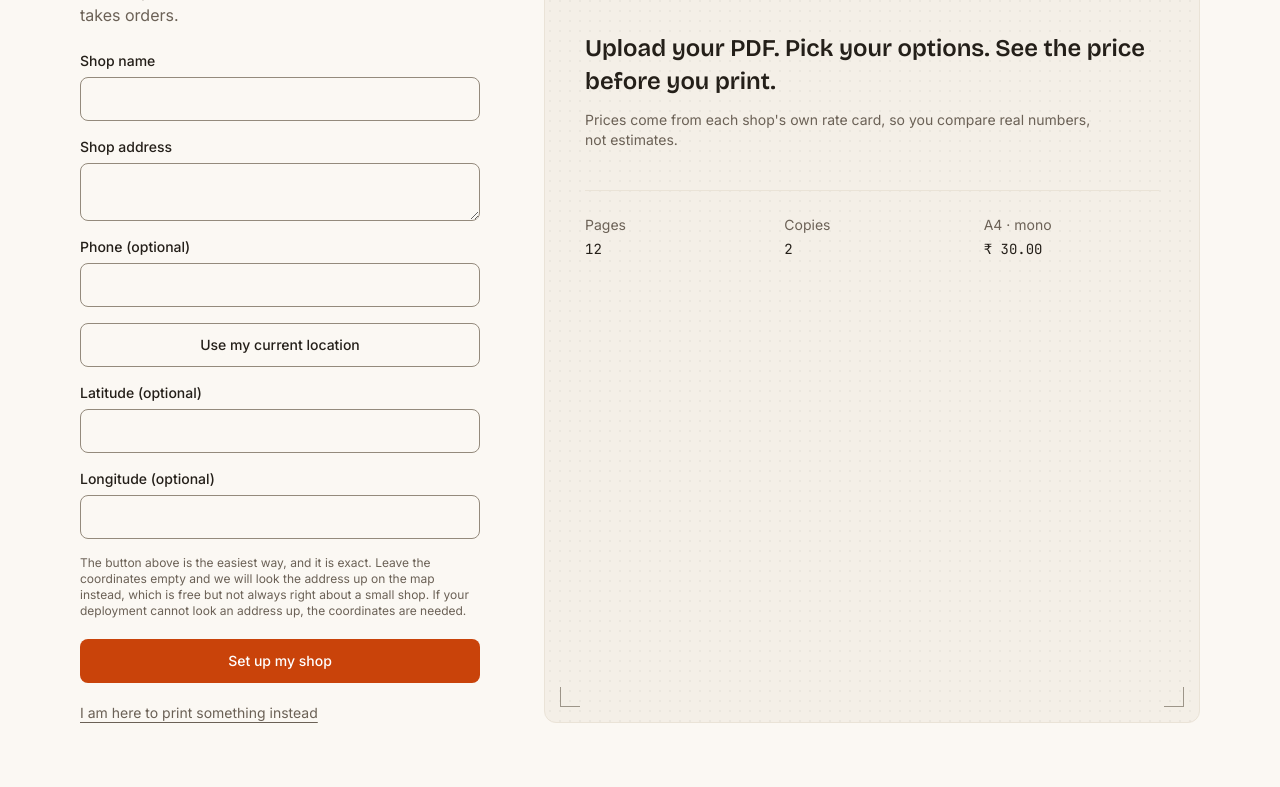
the onboarding page › lets a shop owner say they are here to print after all
The width and height of the screenshot is (1280, 787).
(page scrolled)
Click the button "I am here to print something instead".
click(199, 713)  # box x1=80 y1=703 x2=318 y2=723
(page scrolled)
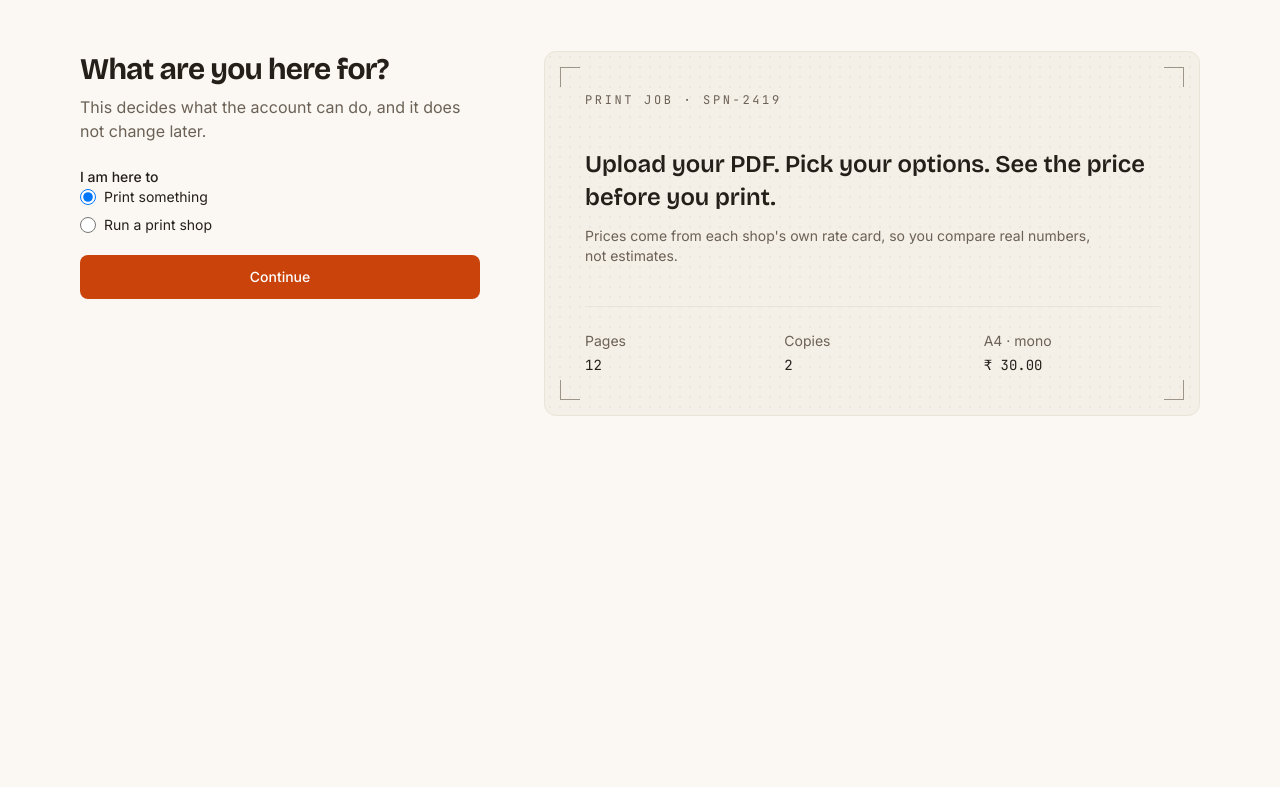
Expected: the radio button labelled "Print something" is shown, x1=80 y1=189 x2=96 y2=205
